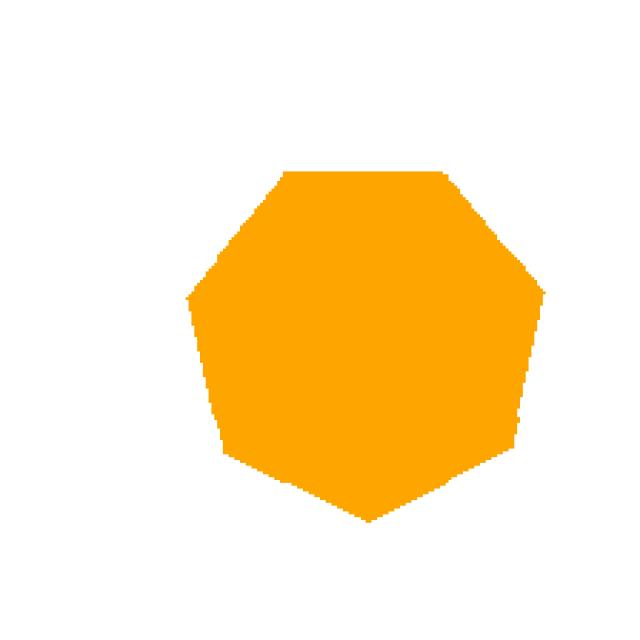Heptagon: (153, 126, 640, 541)
